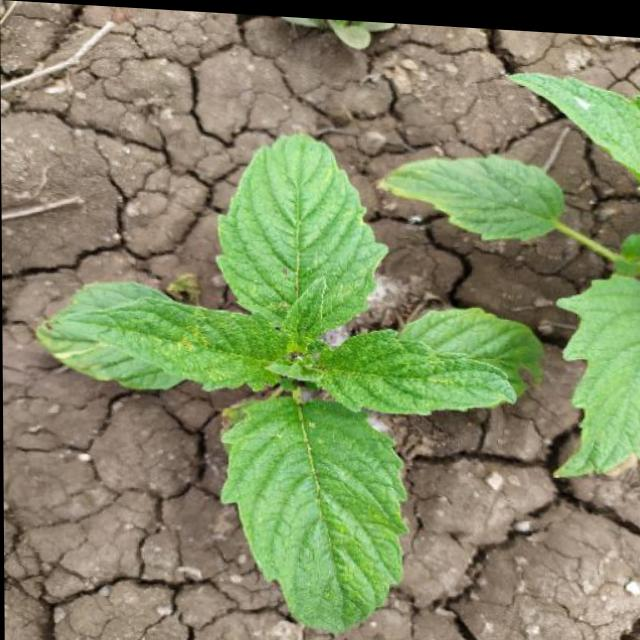crop: (38, 108, 555, 640)
